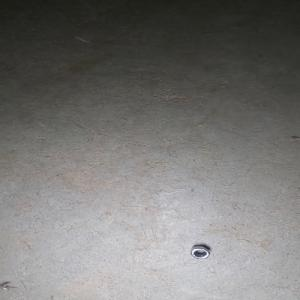Nut: (190, 245, 211, 259)
